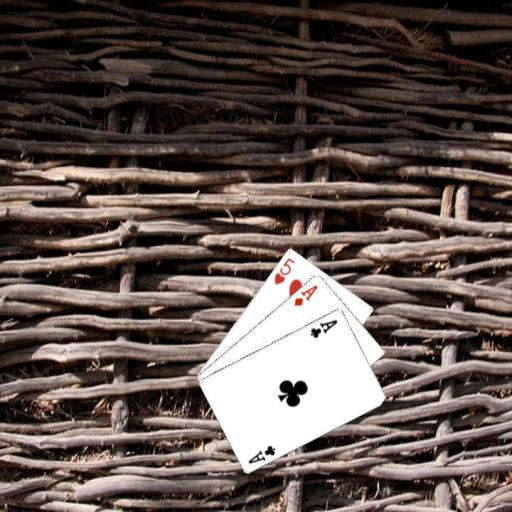5H: (271, 254, 296, 286)
AC: (307, 317, 339, 340), (245, 442, 277, 465)
AD: (291, 282, 319, 307)
